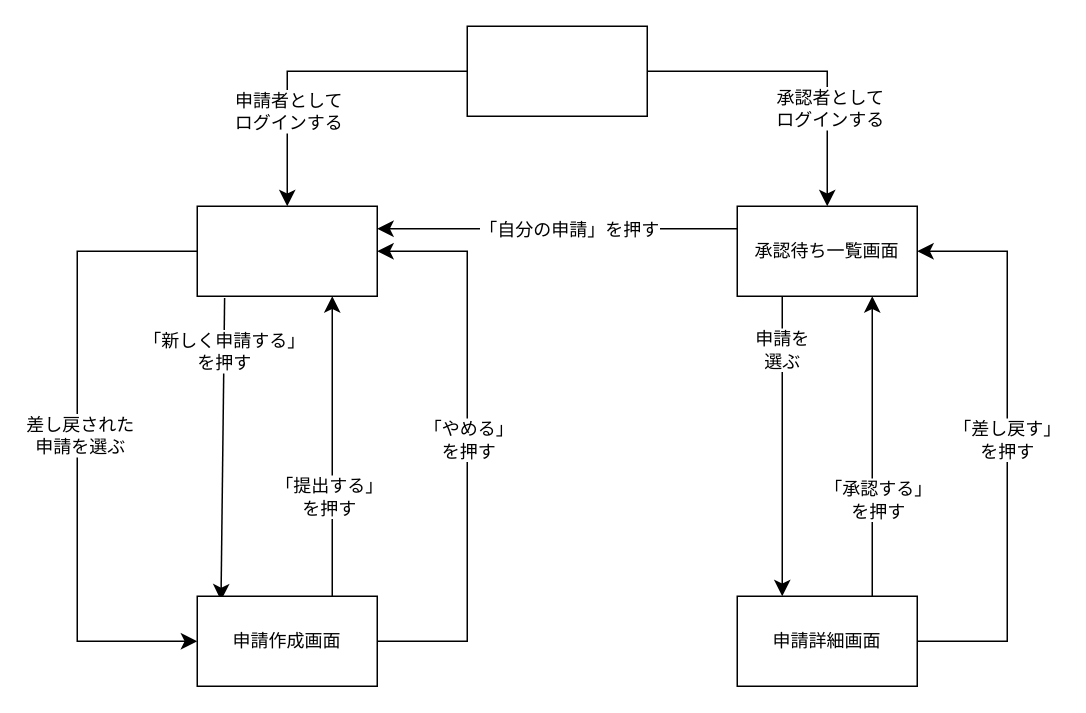
The diagram is 1086 pixels wide and 713 high, and some of its shapes have lost their labels. The centre of each missing label's shape, as x and y in pixels:
"ログイン画面" goes at point (556, 70).
"申請一覧画面" goes at point (286, 250).
